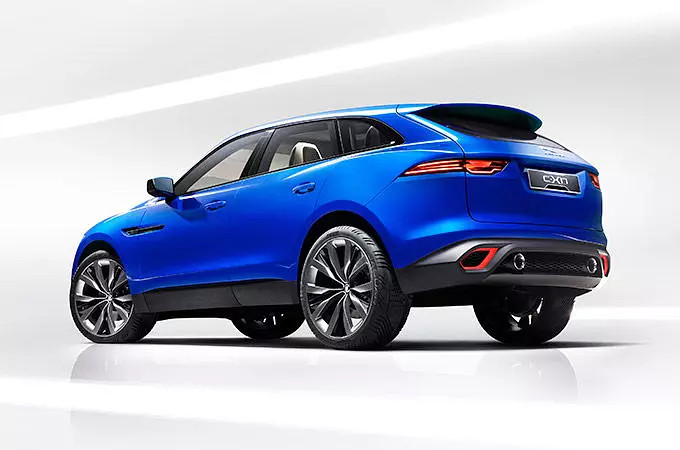car: (67, 101, 613, 347)
